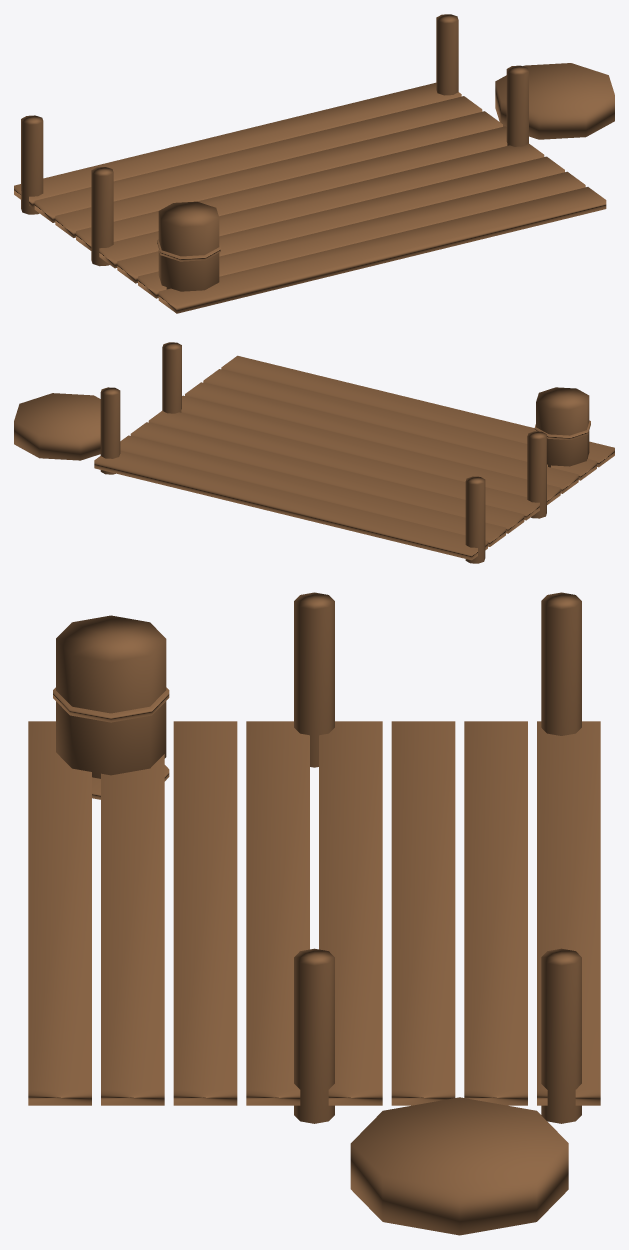
The model's file is dock.glb.
3 renders of one model, top to bottom at view 1: azimuth 30°, elevation 25°; view 2: azimuth 150°, elevation 25°; view 3: azimuth 270°, elevation 25°, orthographic. The views are drawn at different scales.
Visible parts, largest first — view 1: plank7, plank1, plank2, plank0, plank6, plank5, plank4, plank3, buoy_base, barrel, piling0, piling2 (+2 smaller); view 2: plank0, plank2, plank5, plank1, plank3, plank4, plank6, plank7, buoy_base, barrel, piling0, piling2 (+2 smaller); view 3: plank5, plank2, plank1, buoy_base, plank7, plank3, plank4, plank6, plank0, barrel, piling1, piling3 (+2 smaller).
Part boxes in pixels (x1=…): plank7: x1=158, y1=187, x2=606, y2=313; plank1: x1=34, y1=96, x2=482, y2=222; plank2: x1=55, y1=111, x2=502, y2=237; plank0: x1=14, y1=82, x2=461, y2=207; plank6: x1=138, y1=171, x2=585, y2=298; plank5: x1=117, y1=156, x2=564, y2=283; plank4: x1=99, y1=143, x2=544, y2=268; plank3: x1=76, y1=126, x2=507, y2=250; buoy_base: x1=495, y1=63, x2=614, y2=139; barrel: x1=157, y1=201, x2=220, y2=291; piling0: x1=21, y1=115, x2=43, y2=214; piling2: x1=91, y1=167, x2=113, y2=266; plank0: x1=94, y1=451, x2=487, y2=560; plank2: x1=130, y1=422, x2=524, y2=533; plank5: x1=185, y1=382, x2=578, y2=493; plank1: x1=120, y1=435, x2=505, y2=546; plank3: x1=148, y1=410, x2=539, y2=520; plank4: x1=181, y1=395, x2=560, y2=504; plank6: x1=203, y1=369, x2=596, y2=480; plank7: x1=221, y1=355, x2=614, y2=467; buoy_base: x1=14, y1=393, x2=100, y2=460; barrel: x1=534, y1=387, x2=590, y2=467; piling0: x1=465, y1=476, x2=485, y2=563; piling2: x1=527, y1=431, x2=546, y2=518; plank5: x1=173, y1=721, x2=237, y2=1105; plank2: x1=391, y1=721, x2=455, y2=1105; plank1: x1=464, y1=721, x2=527, y2=1105; buoy_base: x1=350, y1=1097, x2=568, y2=1235; plank7: x1=28, y1=721, x2=91, y2=1105; plank3: x1=319, y1=721, x2=382, y2=1105; plank4: x1=246, y1=721, x2=309, y2=1105; plank6: x1=101, y1=754, x2=164, y2=1105; plank0: x1=537, y1=721, x2=600, y2=1105; barrel: x1=53, y1=615, x2=169, y2=799; piling1: x1=541, y1=948, x2=581, y2=1123; piling3: x1=294, y1=948, x2=334, y2=1123.
Bounding box in the file's own units: 7.79 × 1.25 × 3.94.
